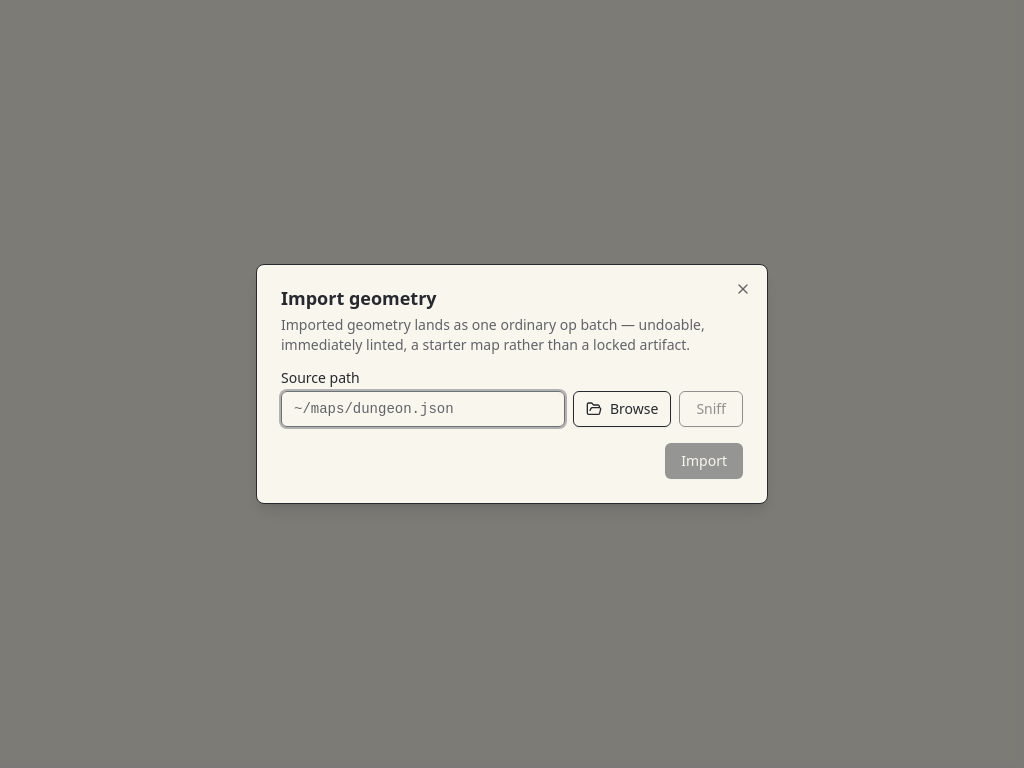
Test: a source carrying no metadata offers no adoption at all
Type "/tmp/source" into the field labelled "Source path" at x=423, y=409, box left=281, top=391, right=565, bottom=427
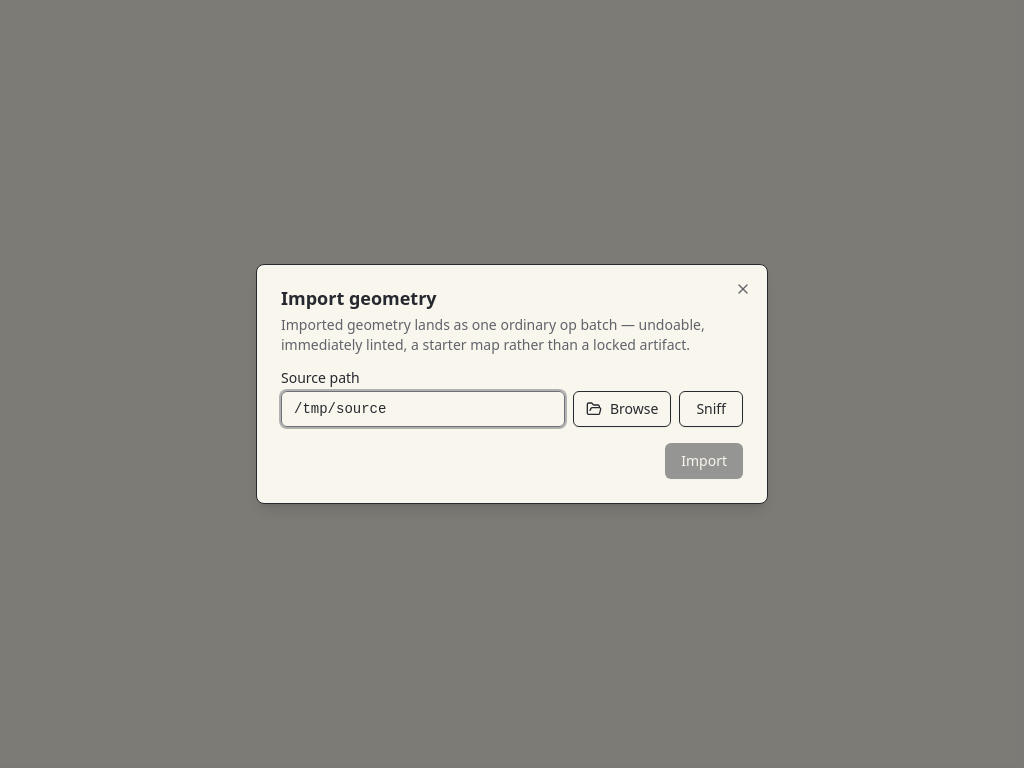
Click the button "Sniff" at x=711, y=409, box left=679, top=391, right=743, bottom=427
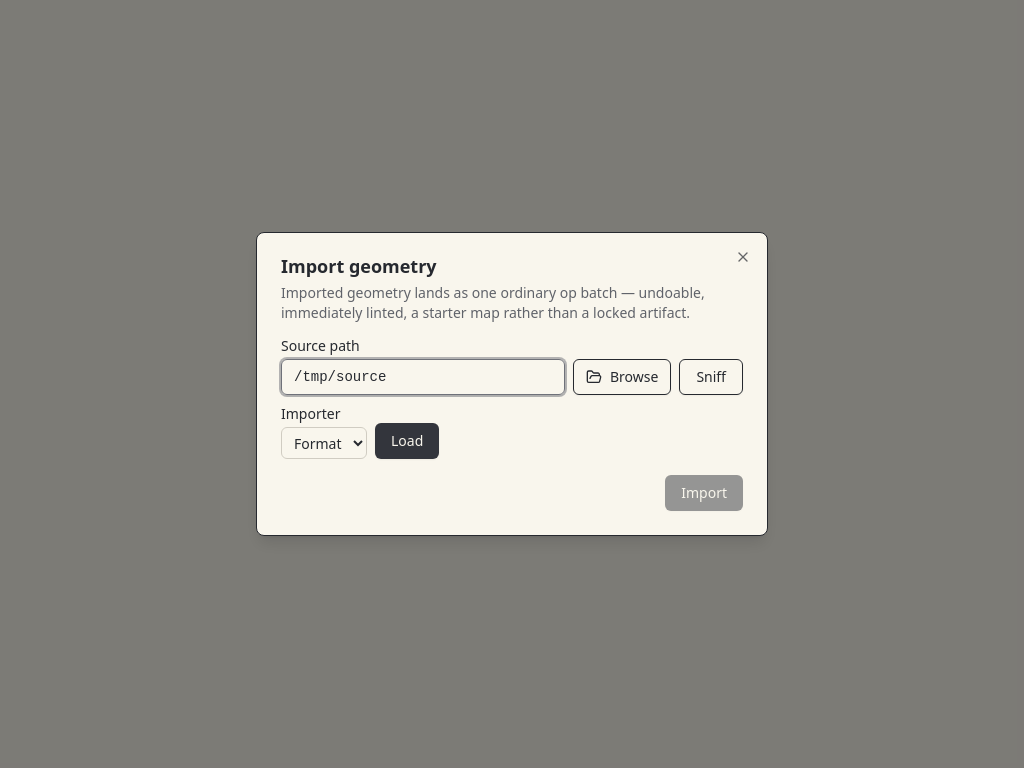
Now the button "Load" is shown
Click the button "Load" at x=407, y=441, box left=375, top=423, right=439, bottom=459
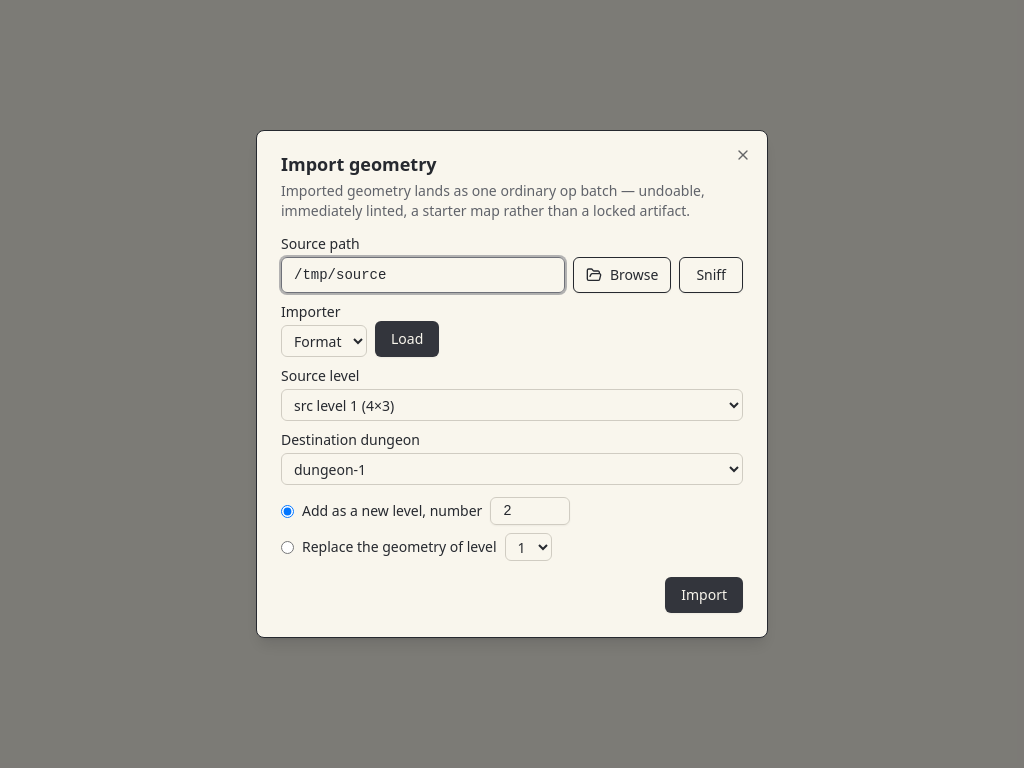
Now the dropdown labelled "Source level" is shown, box left=281, top=389, right=743, bottom=421
